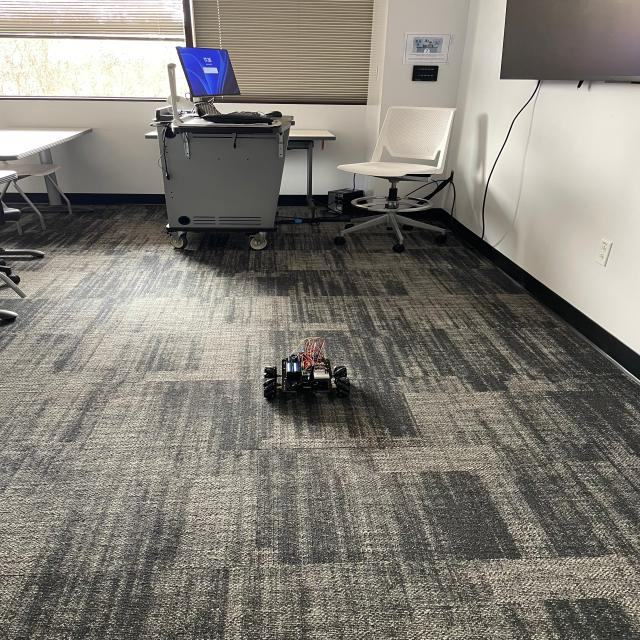ArduinoCar3: (260, 338, 352, 403)
